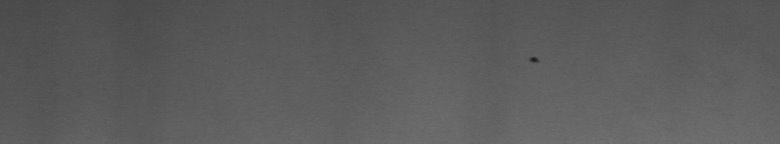fi: (528, 48, 543, 70)
